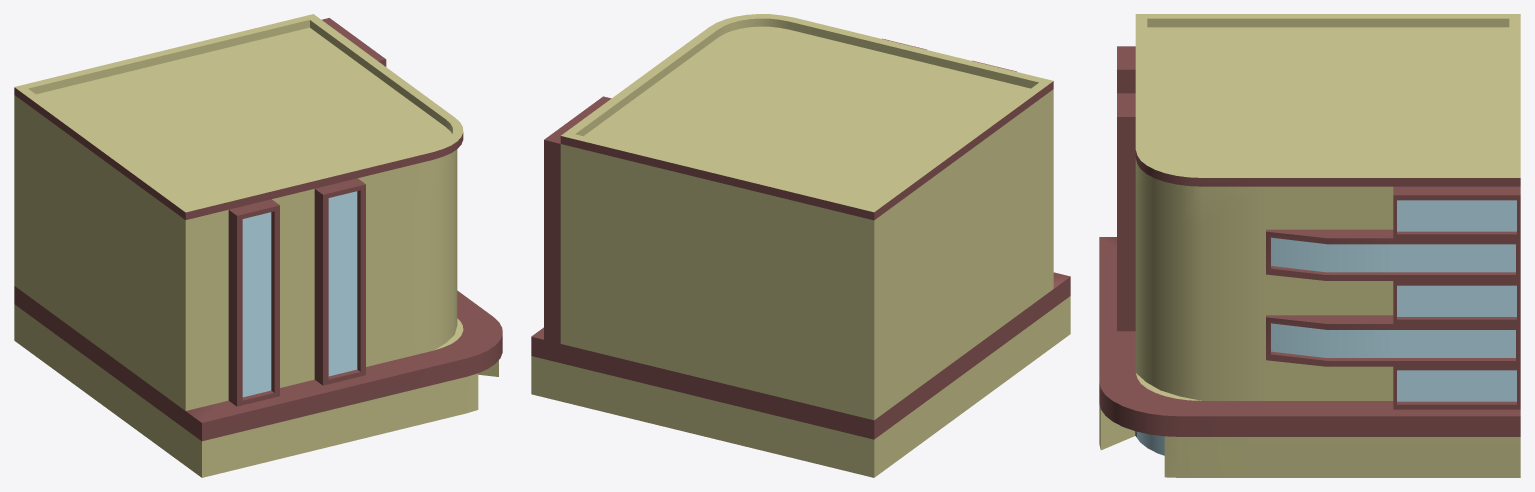
3 renders of one model, left to right at view 1: azimuth 30°, elevation 25°; view 2: azimuth 150°, elevation 25°; view 3: azimuth 270°, elevation 25°, orthographic. The views are drawn at different scales.
Visible parts, largest first — view 1: Cube.003; view 2: Cube.003; view 3: Cube.003.
Part boxes in pixels (x1,y1,x2,y2): Cube.003: (14, 14, 502, 477); Cube.003: (531, 14, 1070, 477); Cube.003: (1099, 14, 1520, 477).
Bounding box in the file's own units: 400 × 296 × 397.
